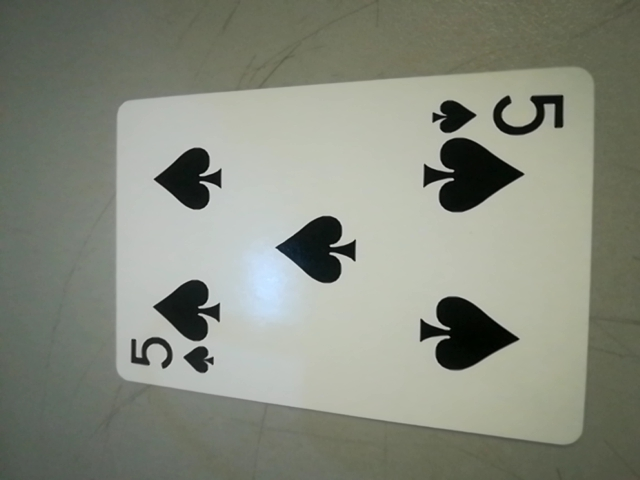ht 5: (426, 89, 575, 144)
